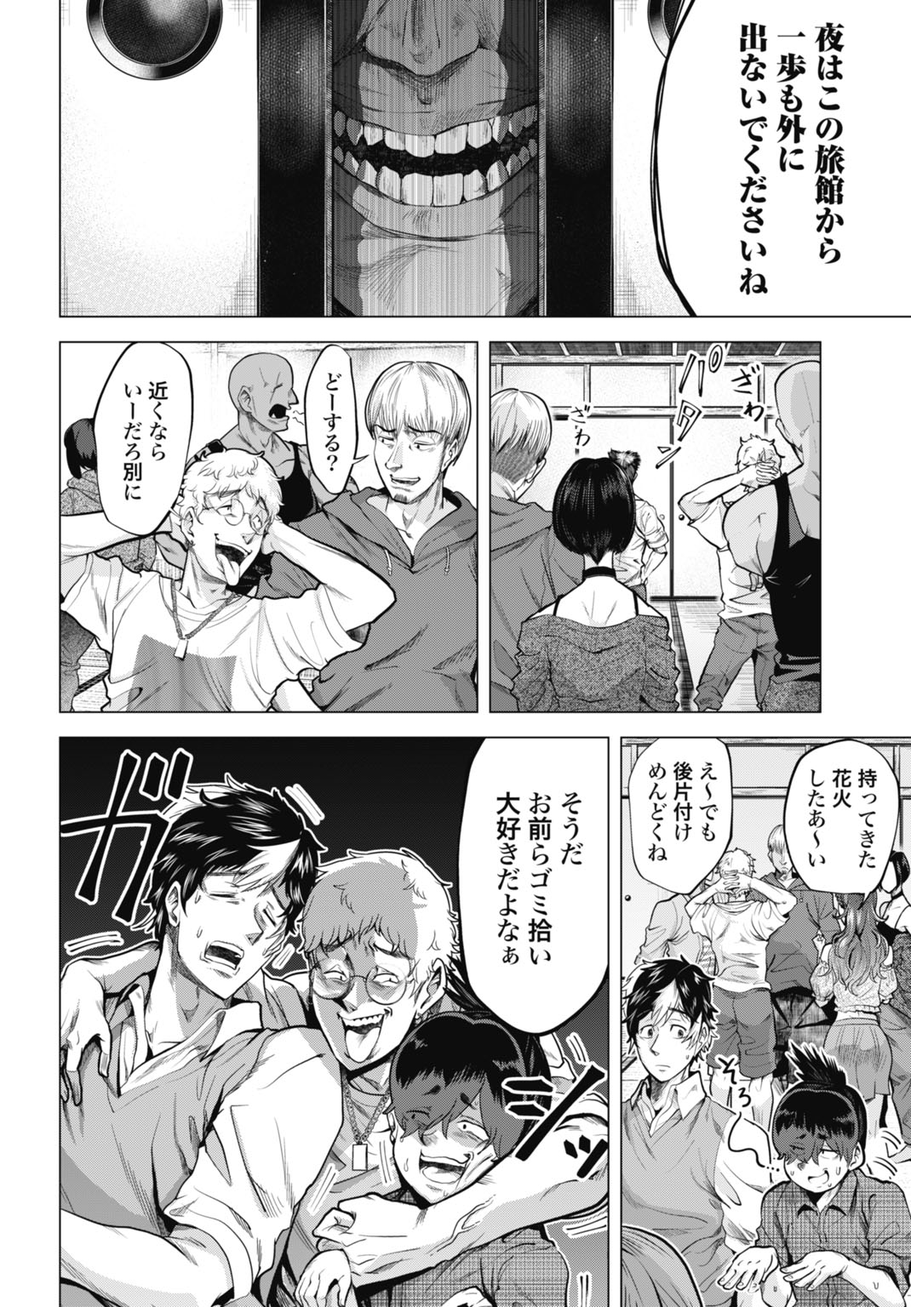bubbles: (645, 2, 911, 317), (450, 739, 610, 1042), (85, 341, 200, 539), (778, 739, 908, 902), (626, 736, 738, 903), (301, 339, 375, 501)
